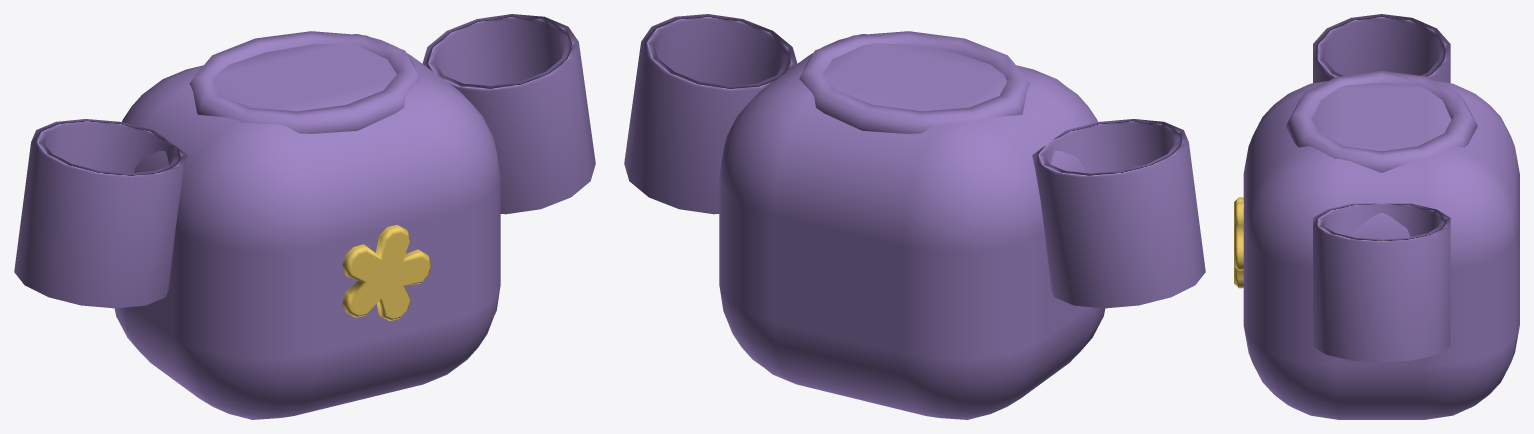
Rendered from big_star_tee.glb.
The picture shows the model from 3 angles, left to right: view 1: azimuth 30°, elevation 25°; view 2: azimuth 150°, elevation 25°; view 3: azimuth 270°, elevation 25°; orthographic projection. The views are drawn at different scales.
Parts seen in each view (by area): view 1: big_star_tee_Body, big_star_tee_ArmL, big_star_tee_ArmR; view 2: big_star_tee_Body, big_star_tee_ArmL, big_star_tee_ArmR; view 3: big_star_tee_Body, big_star_tee_ArmR, big_star_tee_ArmL.
Part boxes in pixels (box(x1,y1,x2,y2)): big_star_tee_Body: box(114, 31, 500, 419); big_star_tee_ArmL: box(14, 119, 187, 308); big_star_tee_ArmR: box(422, 14, 595, 214); big_star_tee_Body: box(719, 31, 1105, 419); big_star_tee_ArmL: box(1032, 119, 1205, 308); big_star_tee_ArmR: box(624, 14, 797, 214); big_star_tee_Body: box(1234, 70, 1519, 419); big_star_tee_ArmR: box(1313, 203, 1450, 362); big_star_tee_ArmL: box(1313, 14, 1450, 83).
Bounding box in the file's own units: 0.6053 × 0.3119 × 0.3.
